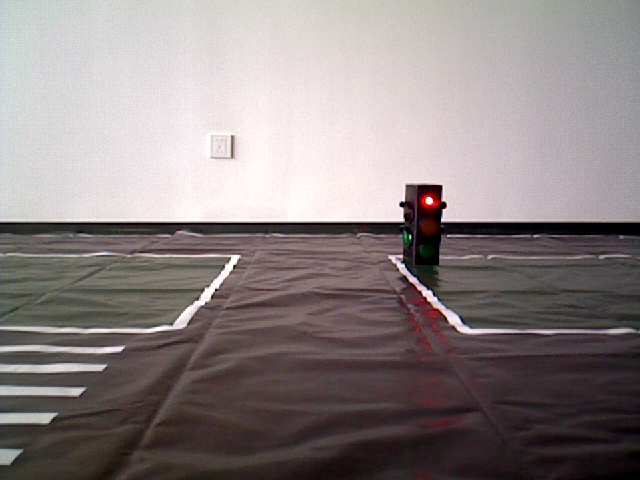red: (401, 186, 439, 264)
